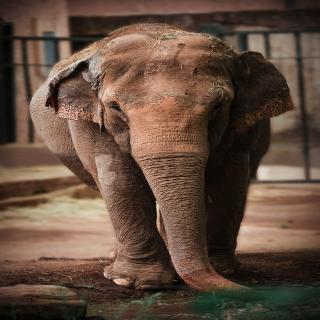Elephant: (30, 19, 320, 302)
